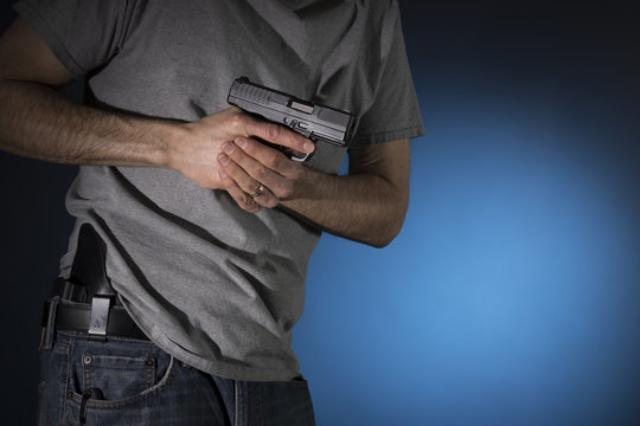handgun: (223, 74, 363, 174)
